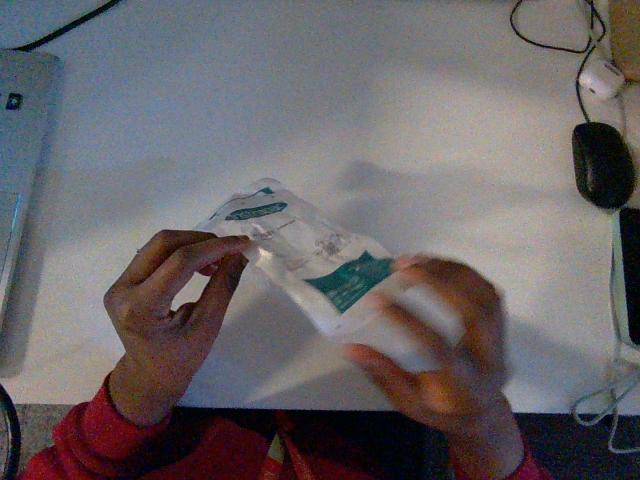gallipot: (196, 179, 437, 370)
